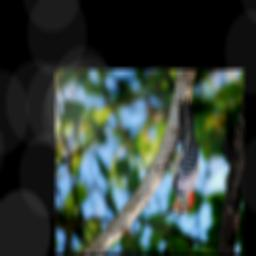Woodpecker: (155, 95, 200, 216)
